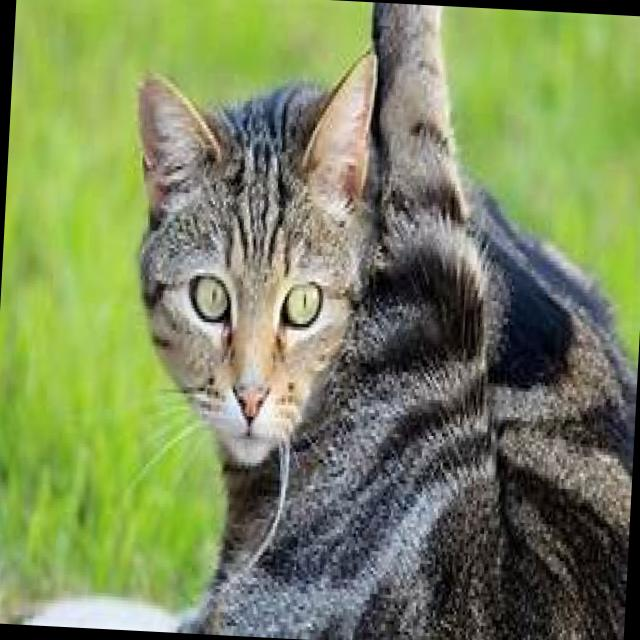animal: (107, 0, 640, 640)
